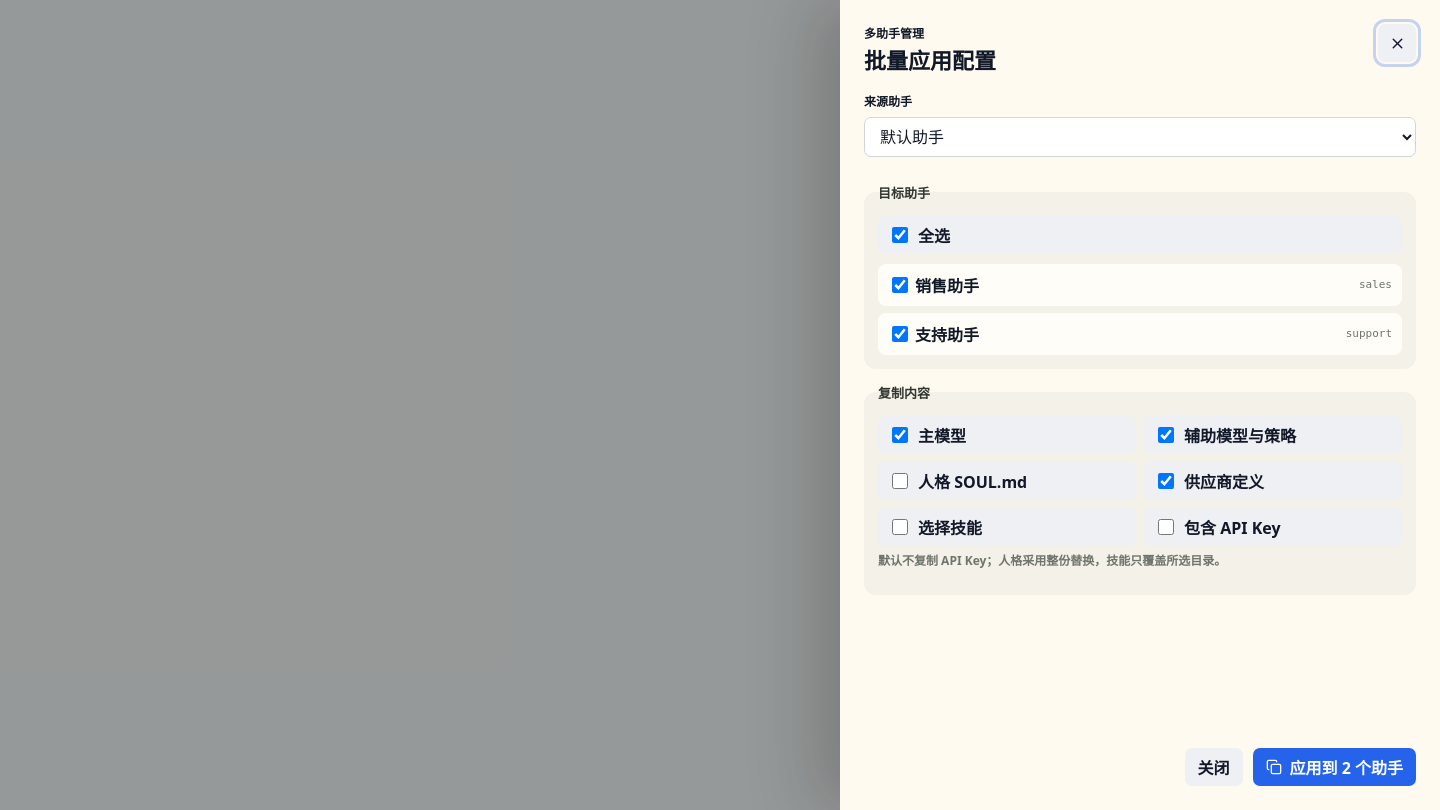
Test case: ProfileBatchTools › shows target-level failure details
Click the button "应用到 2 个助手".
click(1334, 767)  # box [1252, 748, 1416, 786]
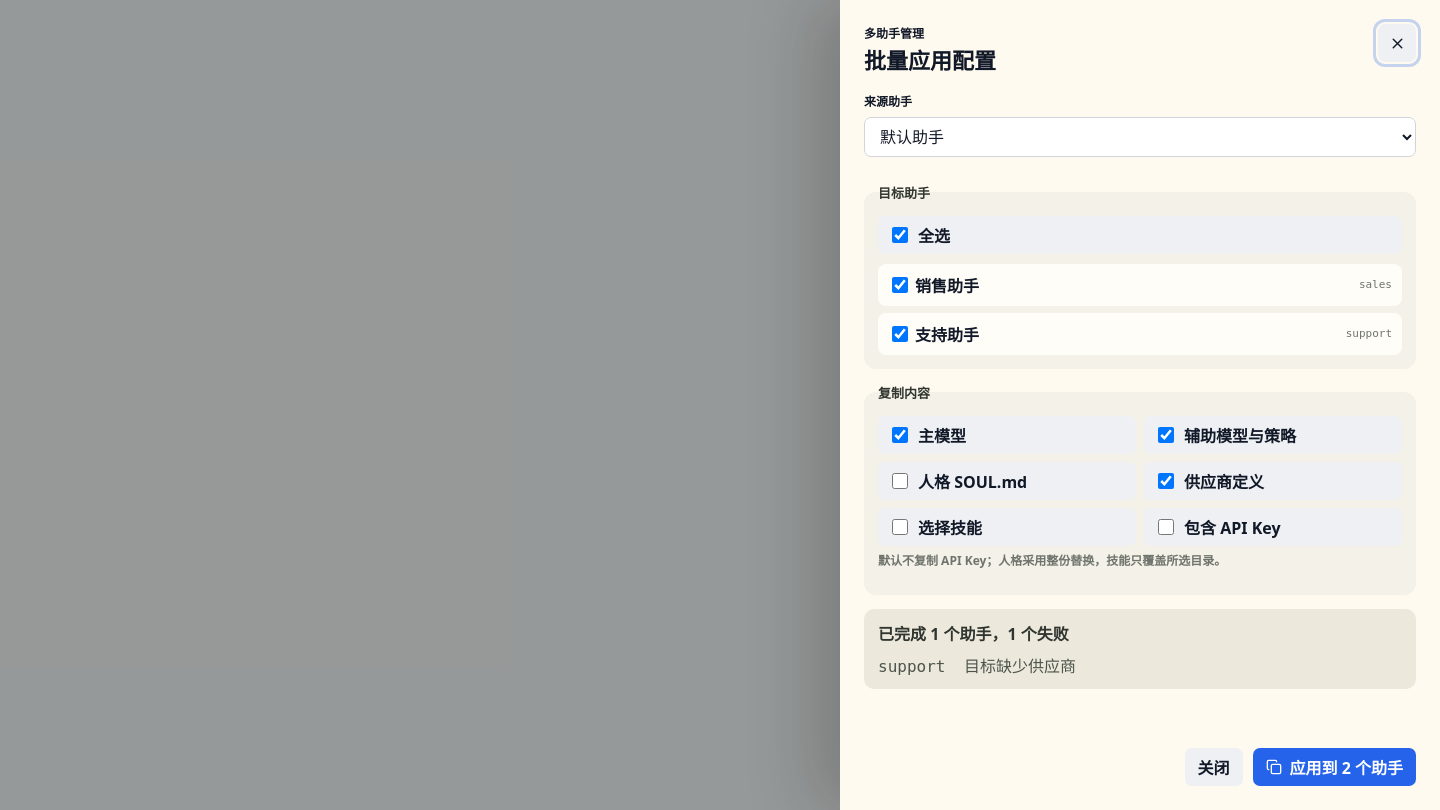
Expected: the text "目标缺少供应商" is shown, [964, 655, 1076, 677]
Expected: the text "support" is shown 2 times, [1346, 327, 1392, 340]; [878, 657, 954, 676]
